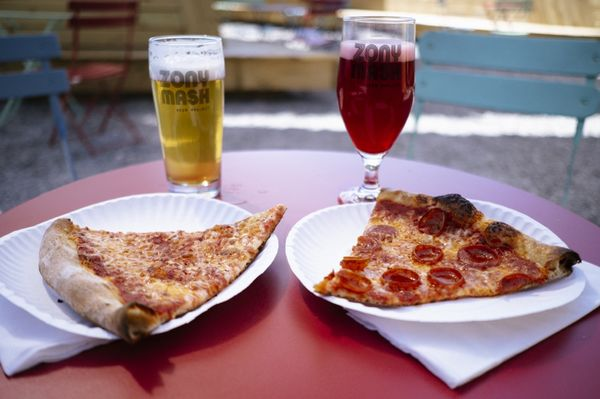pizza: (148, 33, 225, 193)
